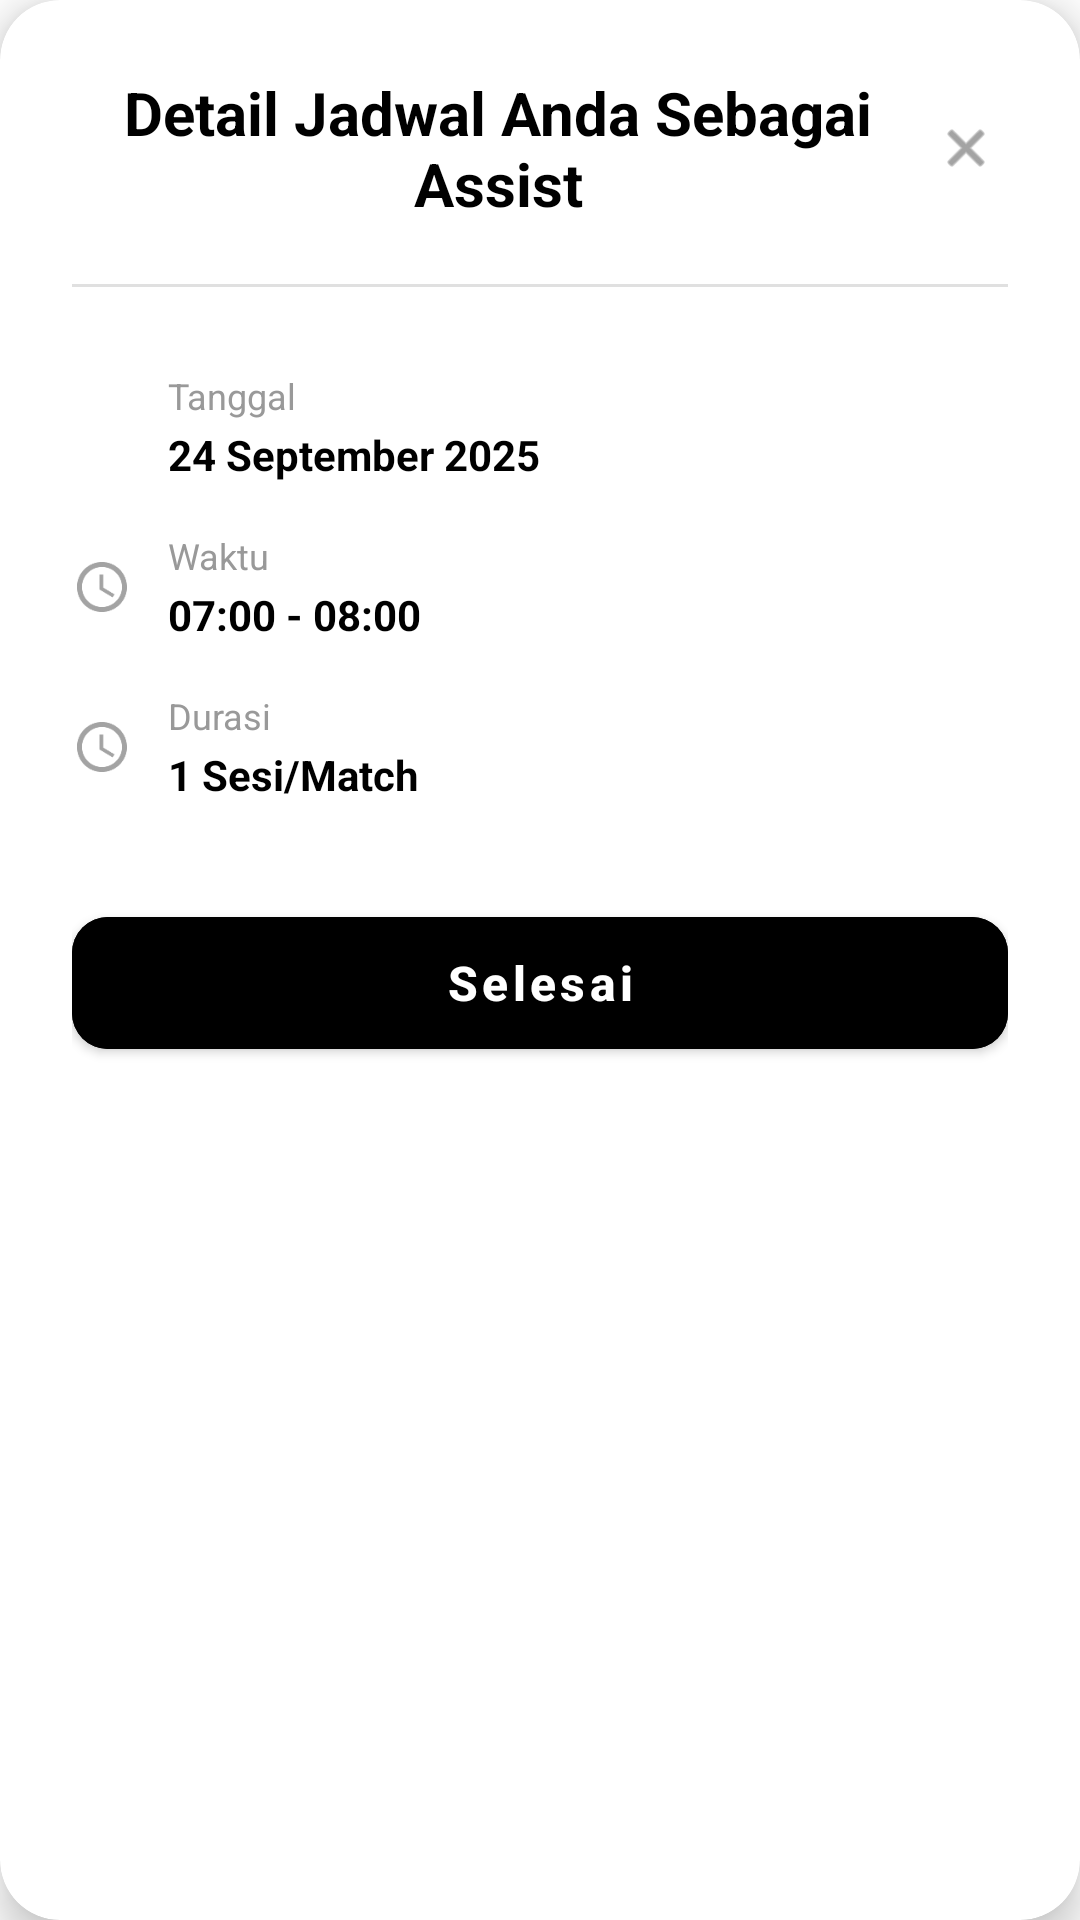

Where to tap for icons on this 1080 × 1920 app screen, as (x=x, y=y):
close clear cancel: (x=966, y=148)
time: (x=102, y=587), (x=102, y=747)
